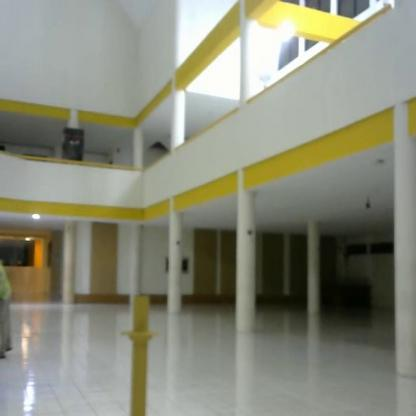pole: (117, 283, 165, 416)
